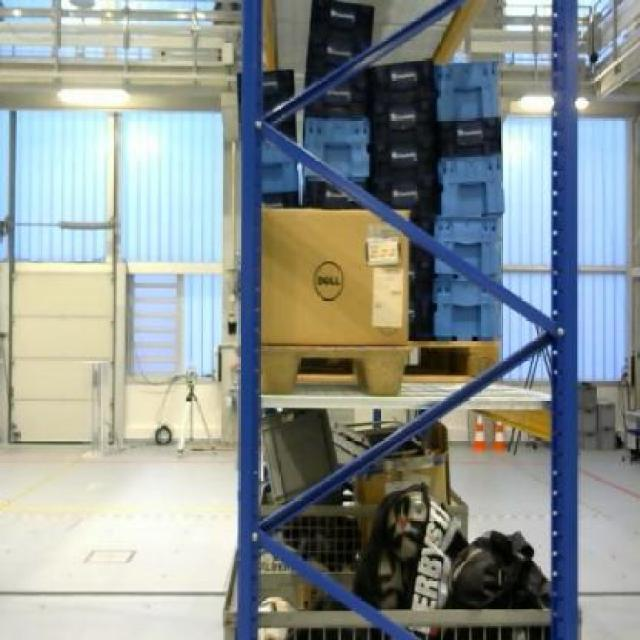box: (260, 206, 409, 342)
